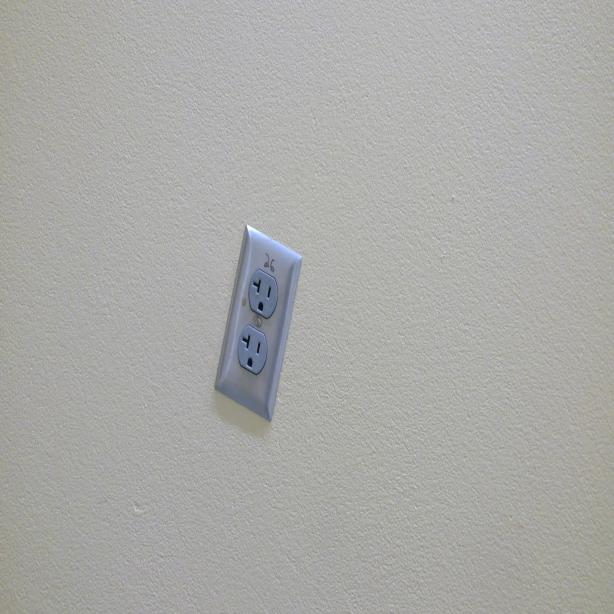typeb: (249, 273, 278, 316), (238, 328, 266, 372)
